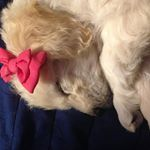puppy: (1, 1, 113, 118)
